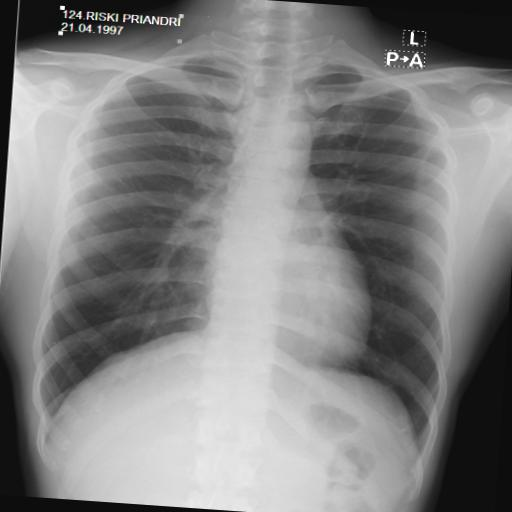normal: (22, 24, 476, 484)
